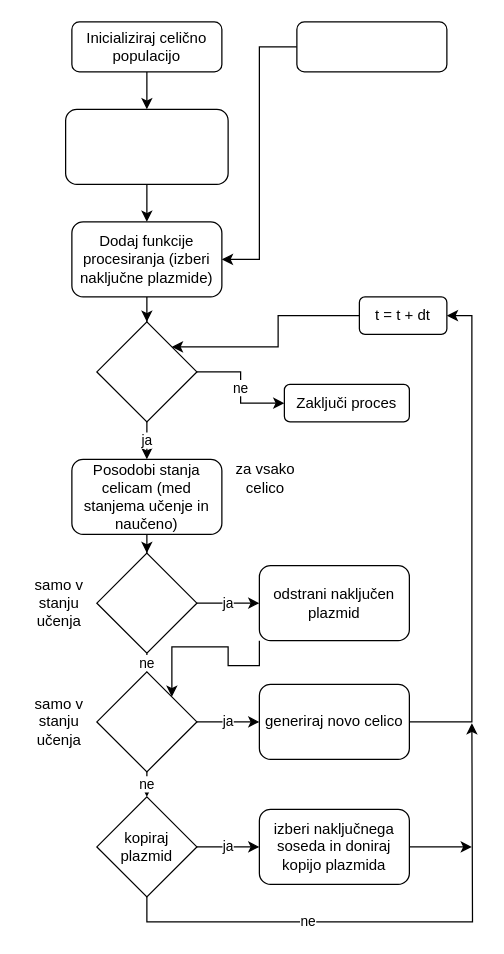
The diagram is 504 pixels wide and 954 high, and some of its shapes have lost their labels. Here are the shapes that lost their labels. From the top down, the box of each, then its label:
(296, 21, 447, 72): Inicializiraj plazmidno populacijo
(64, 108, 228, 184): Dodaj celicam osnovne funkcije (ustreznost, signal apoptoze)
(96, 321, 197, 422): t < t end
(96, 552, 197, 653): celica izgubi plazmid?
(96, 671, 197, 772): apoptoza -> celica umre?
